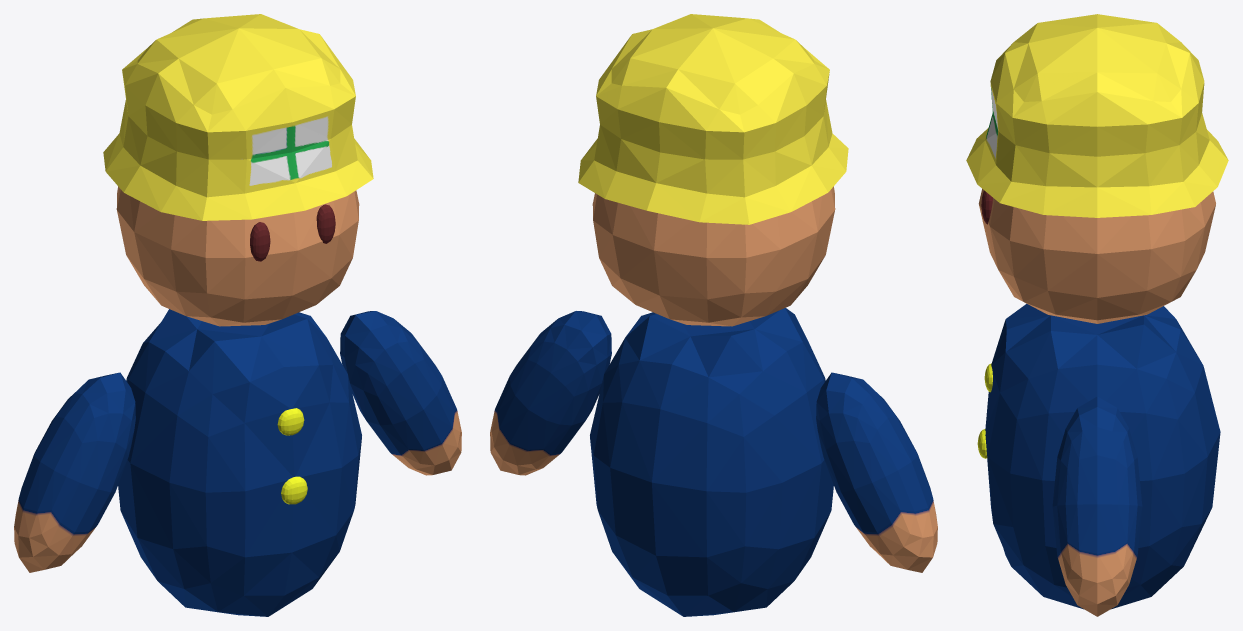
The model's file is P_rinker.obj.
3 renders of one model, left to right at view 1: azimuth 30°, elevation 25°; view 2: azimuth 150°, elevation 25°; view 3: azimuth 270°, elevation 25°, orthographic.
Visible parts, largest first — view 1: kao; view 2: kao; view 3: kao.
Boxes of the visible parts, x1,y1,x2,y2 form: kao: (14,14,461,616); kao: (490,14,937,616); kao: (966,14,1228,616).
Size of the model in its own units: 0.9225 by 1.18 by 0.4819.
1 material, 1 textured.
